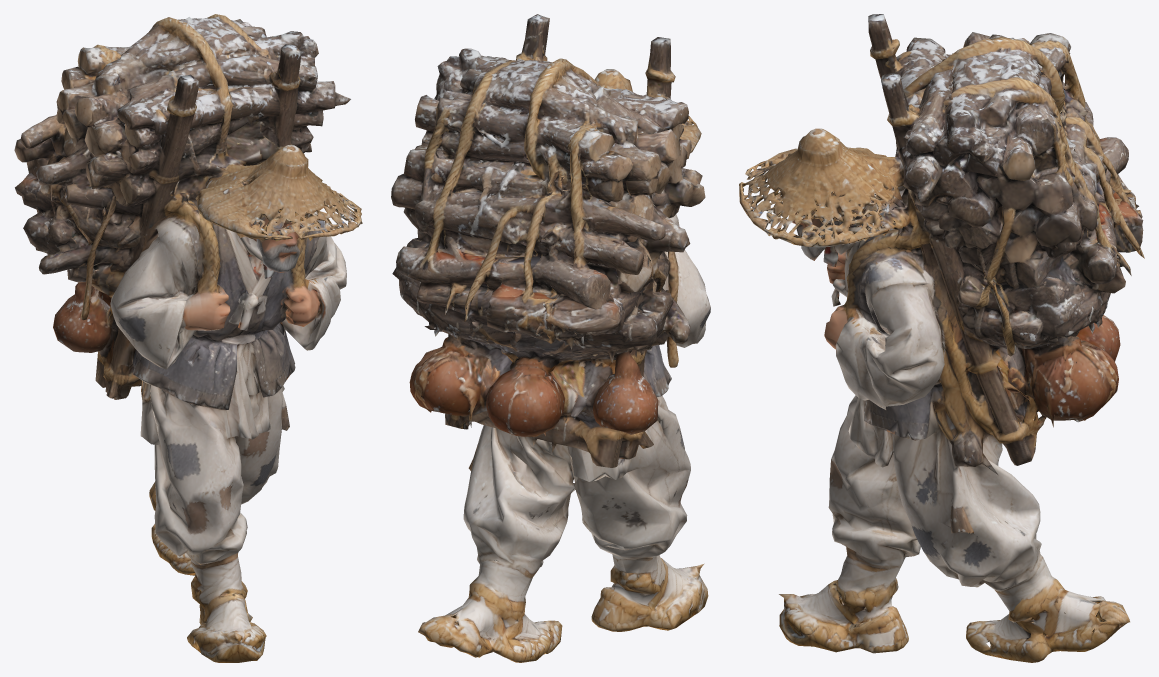
File: PR_FrozenCitizen_03.fbx
3 views of the same model, side by side, from view 1: azimuth 30°, elevation 25°; view 2: azimuth 150°, elevation 25°; view 3: azimuth 270°, elevation 25° (orthographic). The views are drawn at different scales.
Visible parts, largest first — view 1: texture_mapping; view 2: texture_mapping; view 3: texture_mapping.
Part boxes in pixels (bbox=[...]): texture_mapping: bbox=[14, 14, 362, 662]; texture_mapping: bbox=[391, 14, 710, 662]; texture_mapping: bbox=[739, 14, 1144, 662].
Bounding box in the file's own units: 0.5021 × 0.6009 × 1.
1 material, 1 textured.
